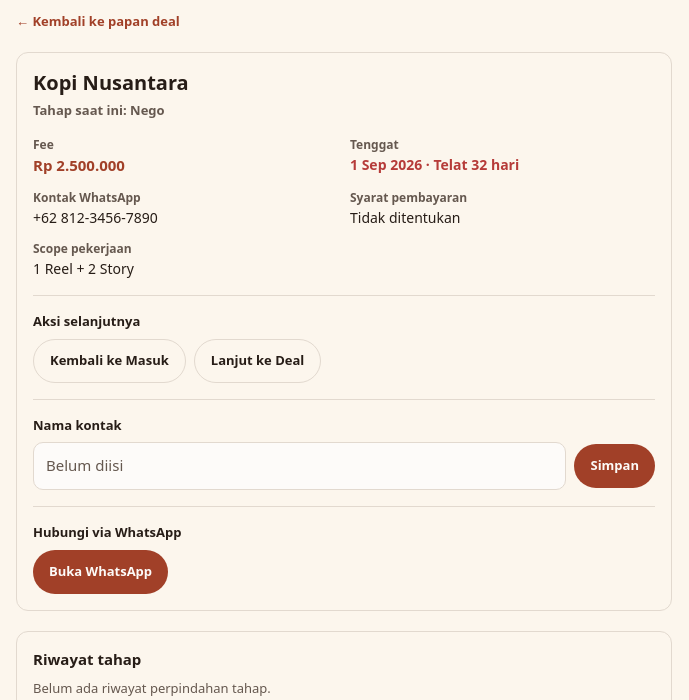
Scenario: DealDetailClient › saves an edited contact name and shows a success message
The width and height of the screenshot is (689, 700).
Type "Budi" into the field labelled "Nama kontak". click: (300, 466)
box: x1=33 y1=442 x2=566 y2=490
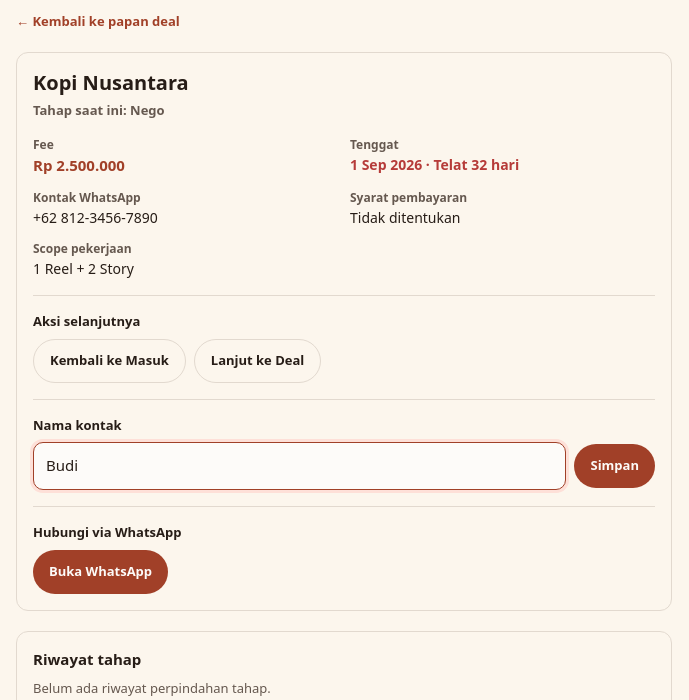
Click the button "Simpan". click: (615, 466)
box: x1=574 y1=444 x2=655 y2=488
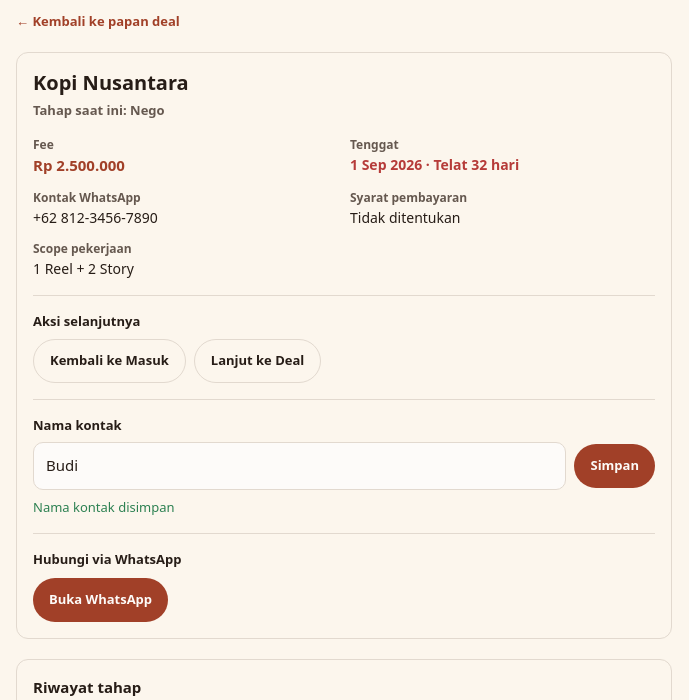
Now the message reads "Nama kontak disimpan", box x1=33 y1=498 x2=175 y2=516
